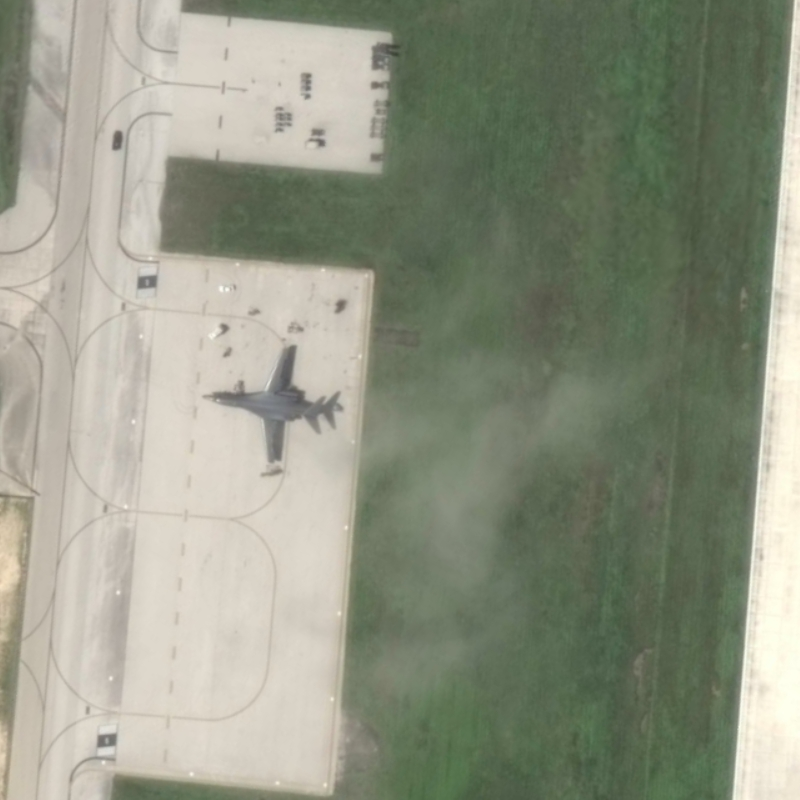A10: (194, 341, 331, 472)
